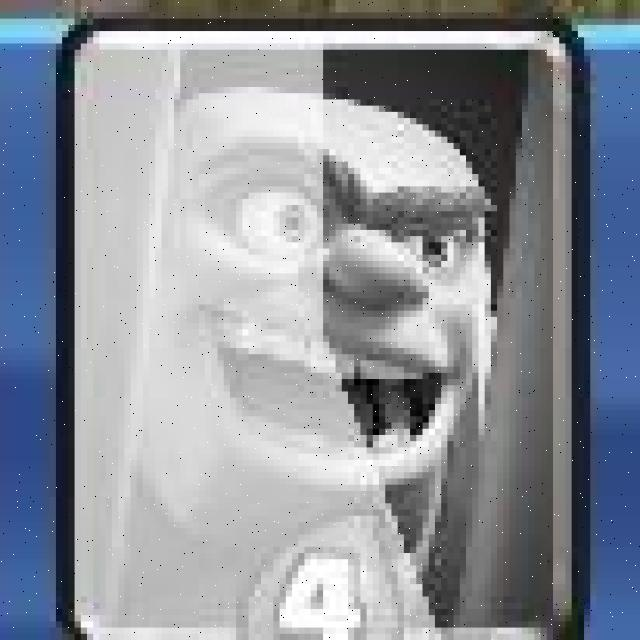Goblin_Cage: (61, 22, 588, 639)
